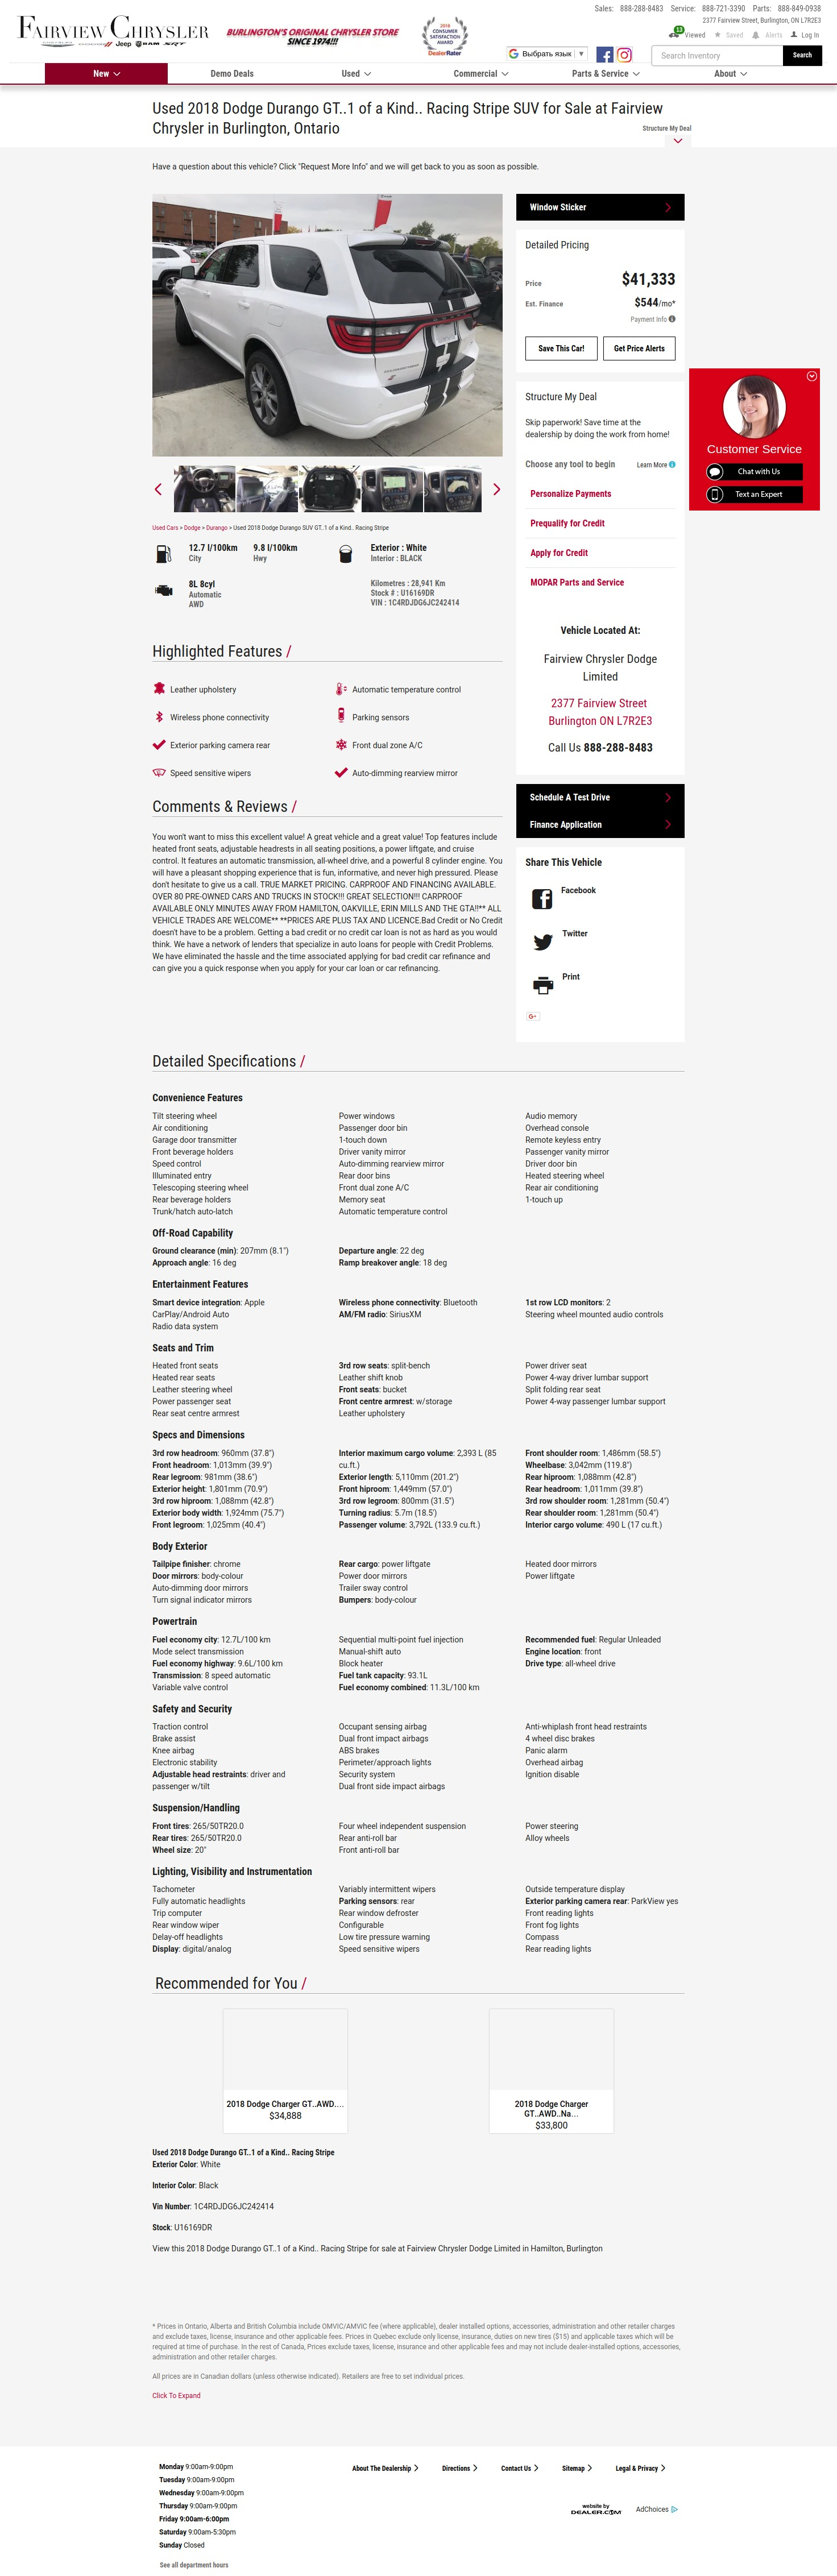car: (493, 483, 500, 496)
